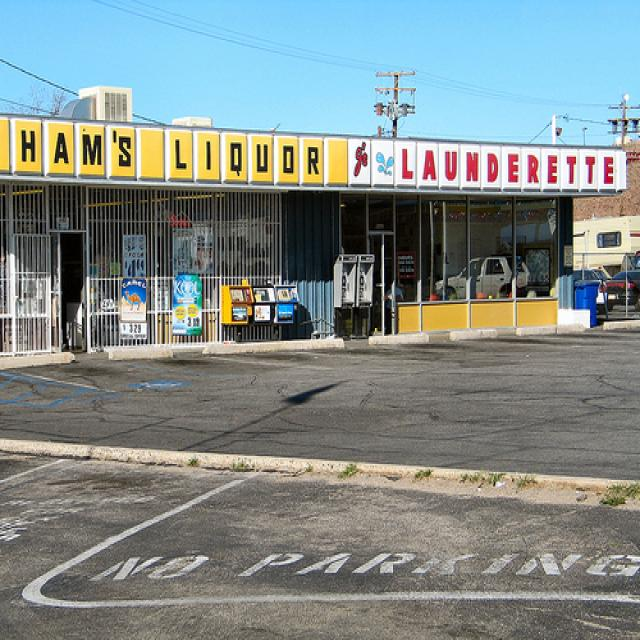car: (435, 255, 533, 305), (605, 268, 640, 313)
